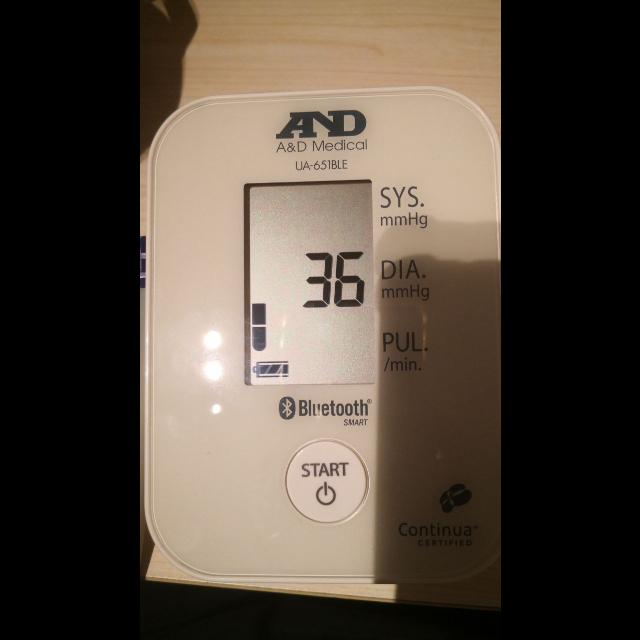Blood-Pressure-Monitor: (140, 87, 500, 586)
